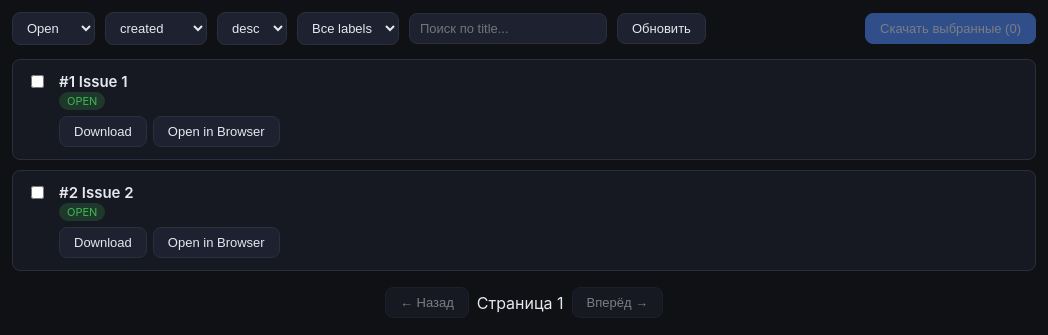
Test case: construct autocomplete › choosing a construct inserts it and opens the issue list
Type "!i" into the field with placeholder "Поиск по title...". click: (508, 28)
box: [409,13,607,44]
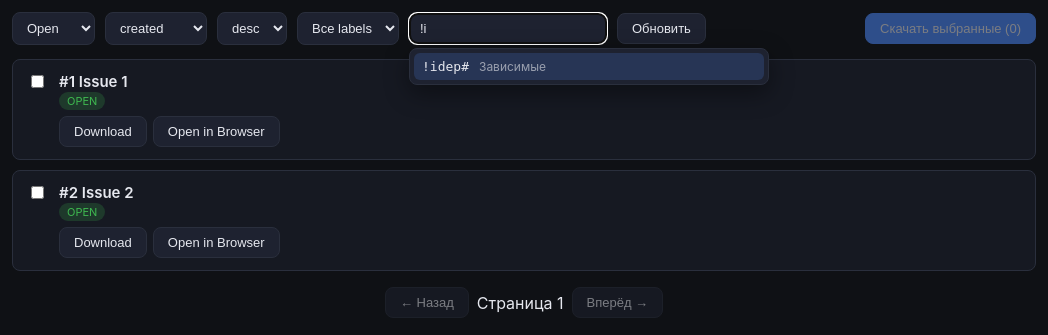
Click the option "!idep# Зависимые". click: (445, 66)
box: [414,53,764,80]
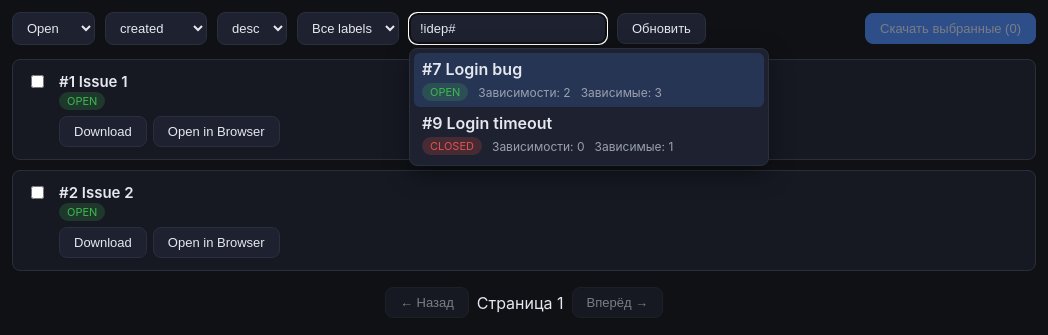
Expected: the field with placeholder "Поиск по title..." holds "!idep#", [409,13,607,44]
Expected: the option "#7 Login bug open Зависимости: 2 Зависимые: 3" is shown, [414,53,764,107]
